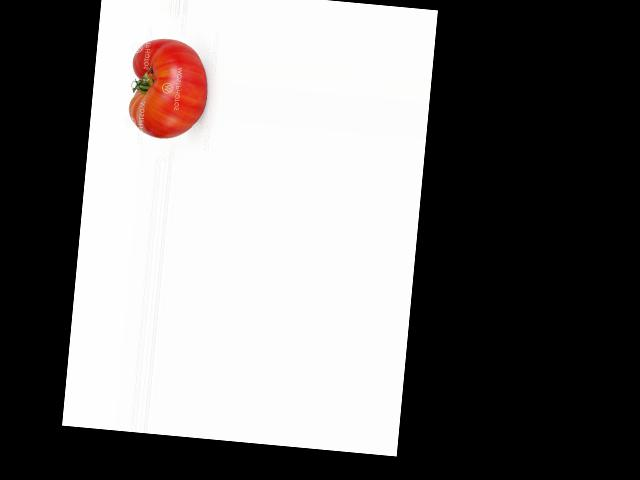tomato: (126, 36, 211, 142)
